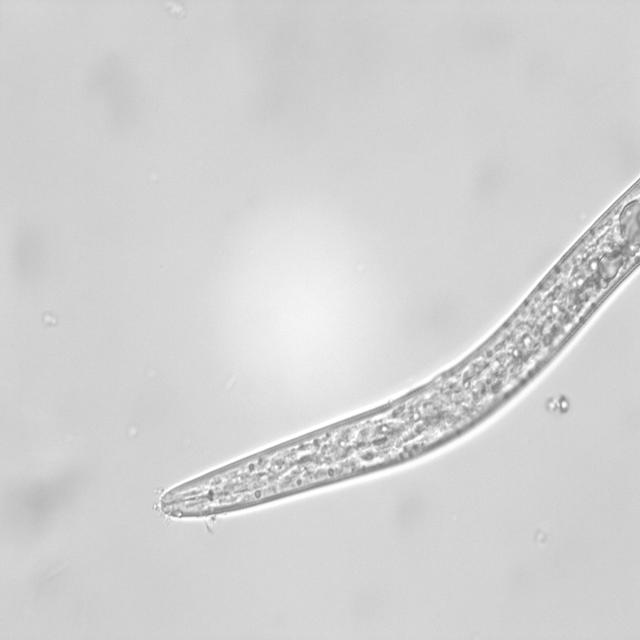Meloidogyne: (153, 147, 640, 527)
